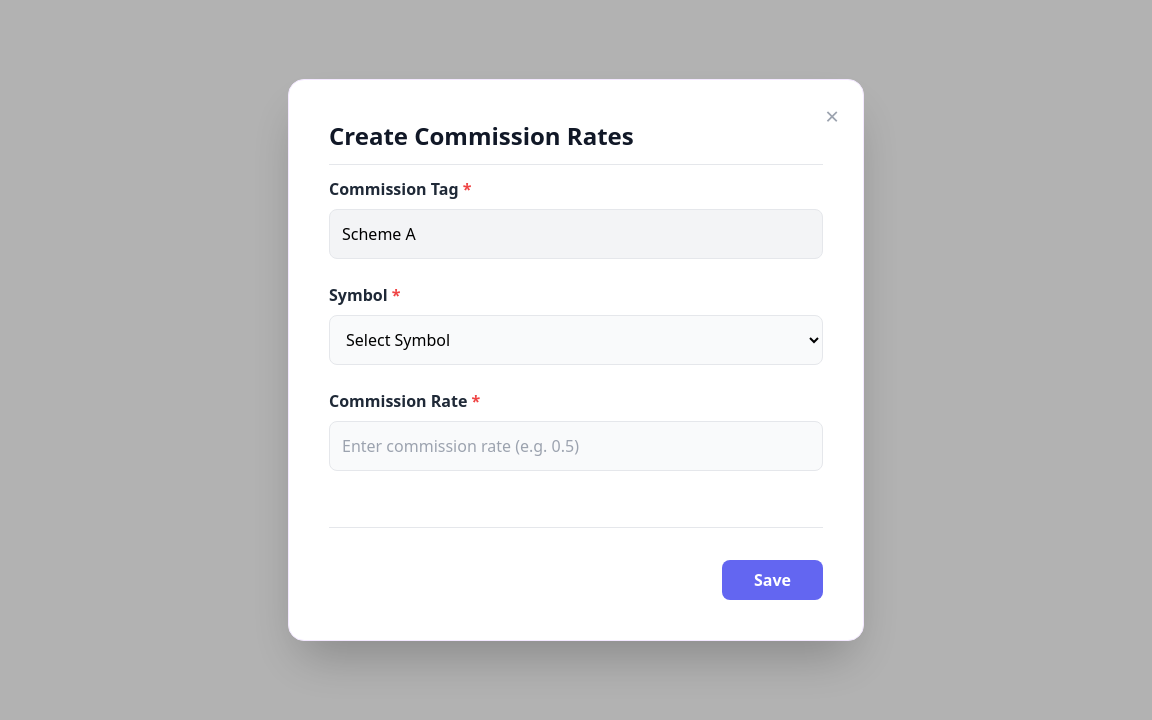
Scenario: CommissionRateCreateModal › shows validation error when no commission rate is provided
The image size is (1152, 720).
Select "USD" in the dropdown labelled "Symbol *" at (576, 340), box x1=329 y1=315 x2=823 y2=365
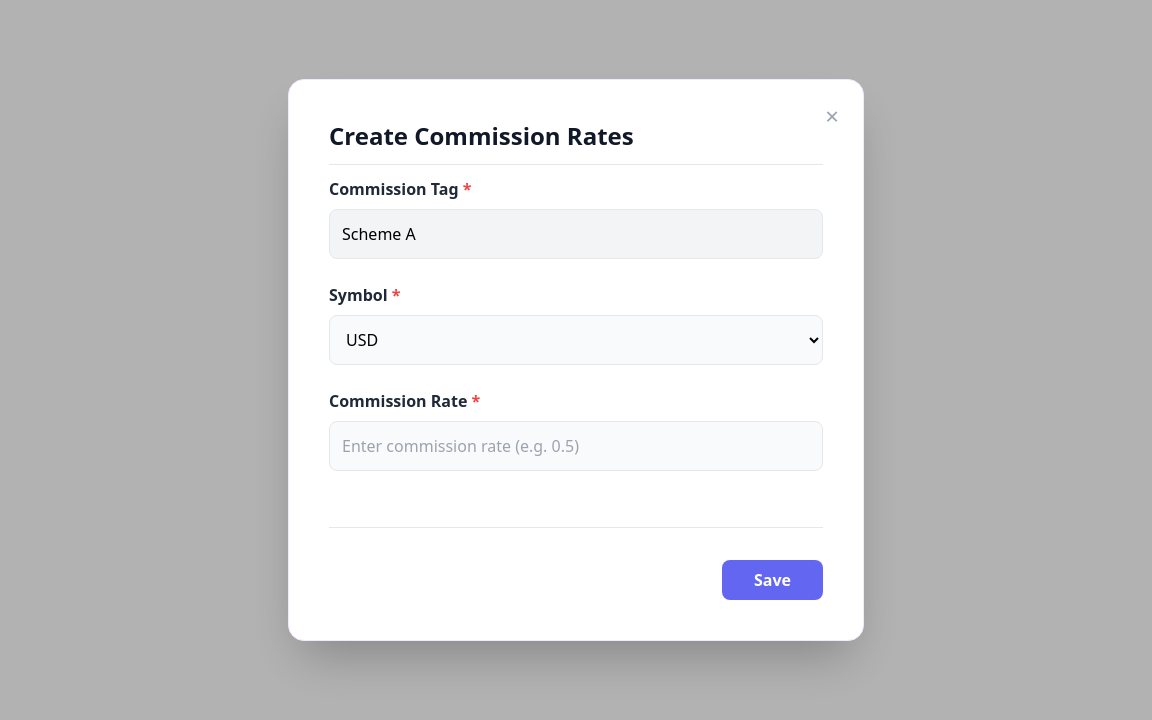
Click the button "Save" at (772, 580), box x1=722 y1=560 x2=823 y2=600
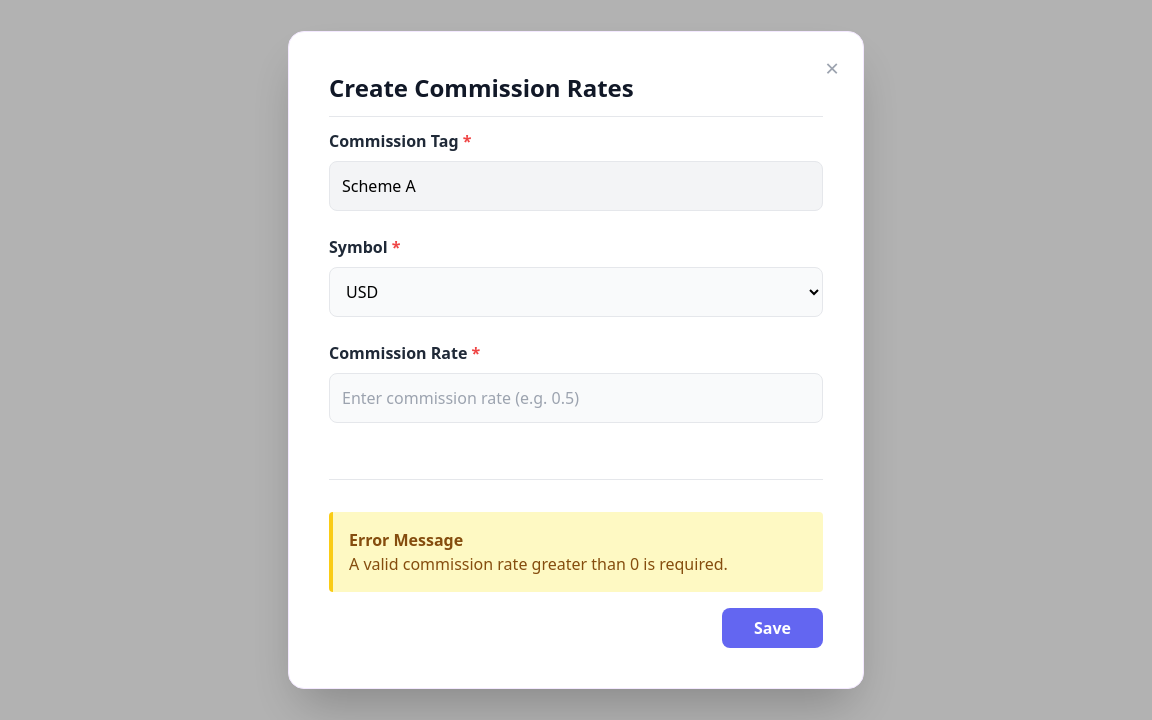
expect the text "A valid commission rate greater than 0 is required." is shown: met, box x1=349 y1=553 x2=728 y2=575
